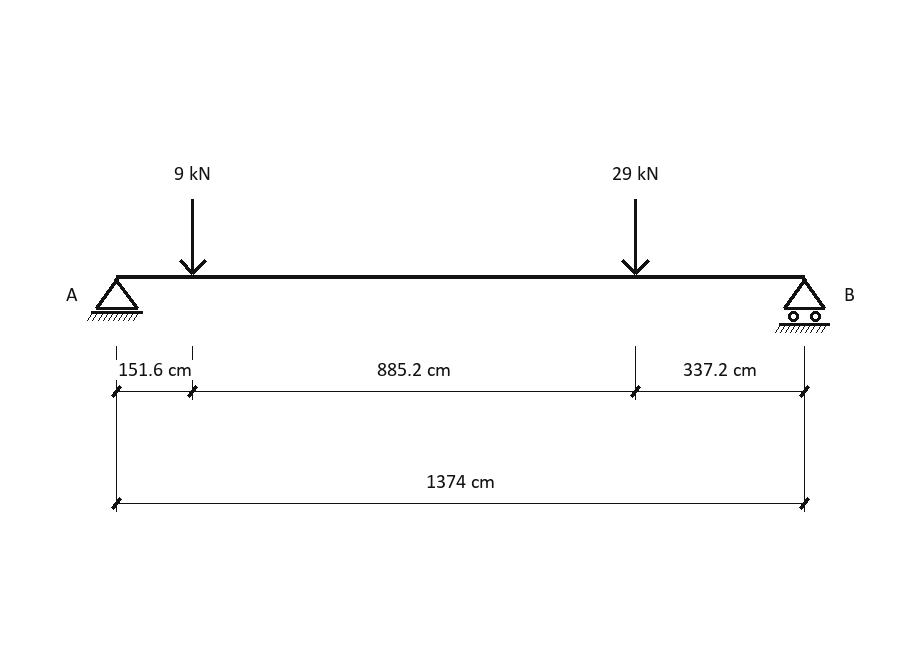pin_support: (87, 278, 143, 321)
point_load: (621, 199, 650, 275), (179, 199, 207, 275)
roller_support: (775, 278, 830, 333)
